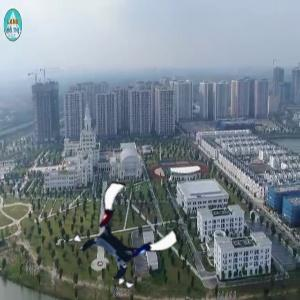drone: (78, 189, 171, 282)
